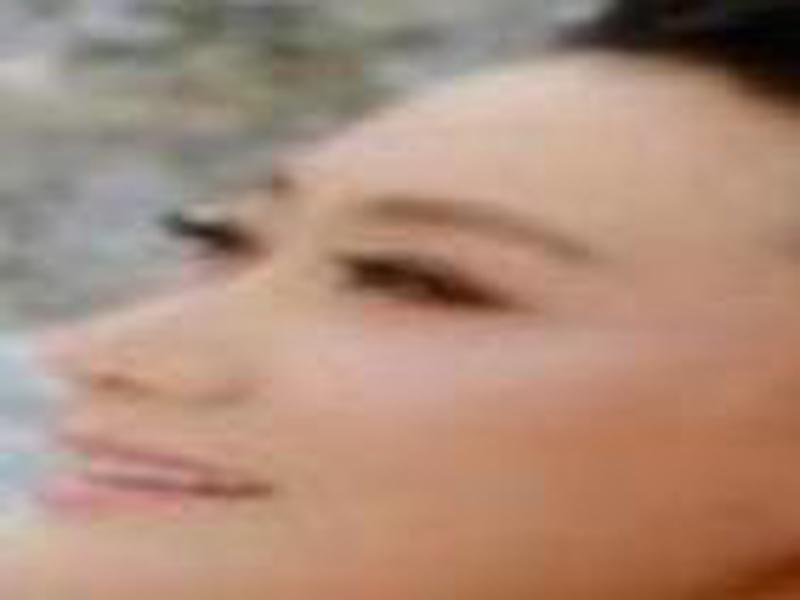without_mask: (21, 55, 763, 600)
